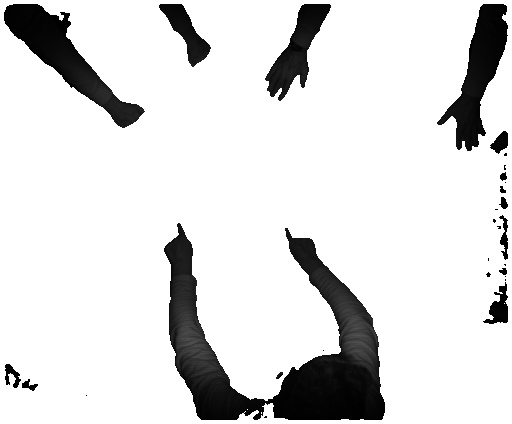fist: (185, 33, 215, 71), (111, 100, 151, 127)
hand: (432, 103, 489, 151), (264, 50, 311, 103), (160, 216, 196, 269), (280, 224, 320, 270)
